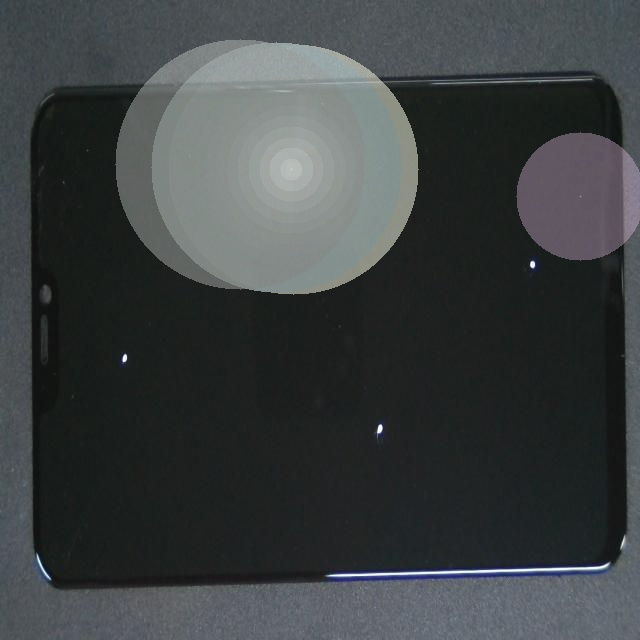stain: (198, 169, 553, 625), (269, 89, 640, 373), (63, 132, 173, 516)
